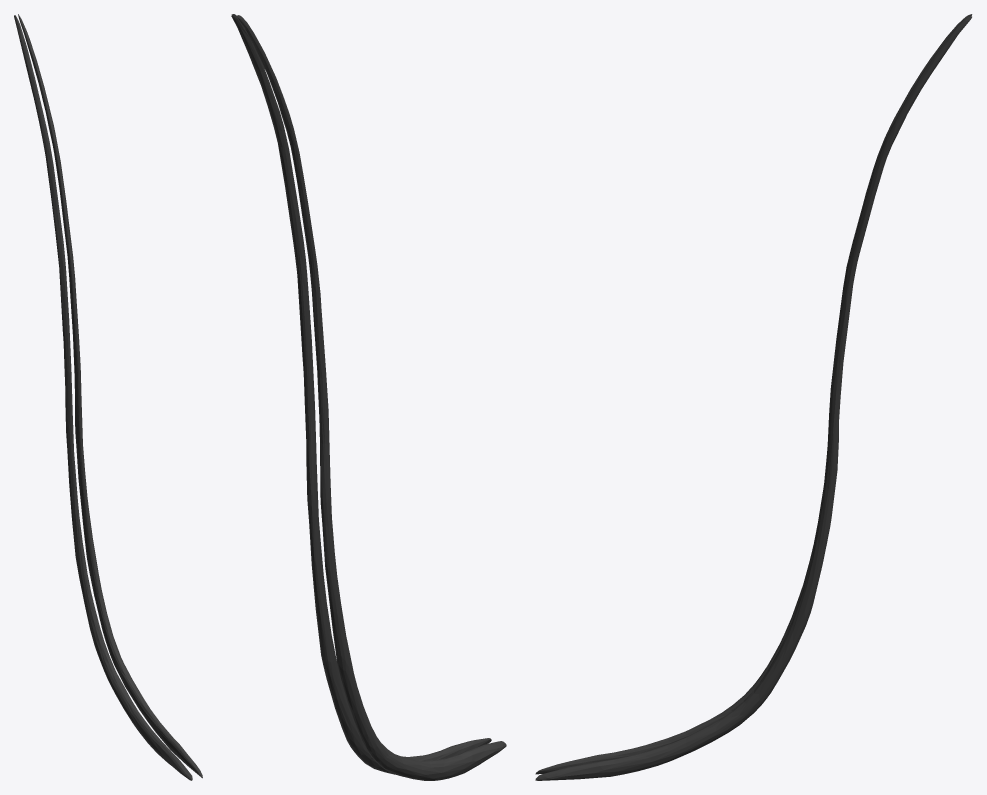
File: m_sacrocaud_vent_med.glb
3 renders of one model, left to right at view 1: azimuth 30°, elevation 25°; view 2: azimuth 150°, elevation 25°; view 3: azimuth 270°, elevation 25°, orthographic. The views are drawn at different scales.
Visible parts, largest first — view 1: m_sacrocaud_vent_med; view 2: m_sacrocaud_vent_med; view 3: m_sacrocaud_vent_med.
Part boxes in pixels (box(x1,y1,x2,y2)): m_sacrocaud_vent_med: box(14, 14, 202, 780); m_sacrocaud_vent_med: box(231, 14, 506, 780); m_sacrocaud_vent_med: box(535, 14, 972, 780).
Size of the model in its own units: 0.000353 by 0.0103 by 0.00534.
Materials: 1 (1 with a texture image).
